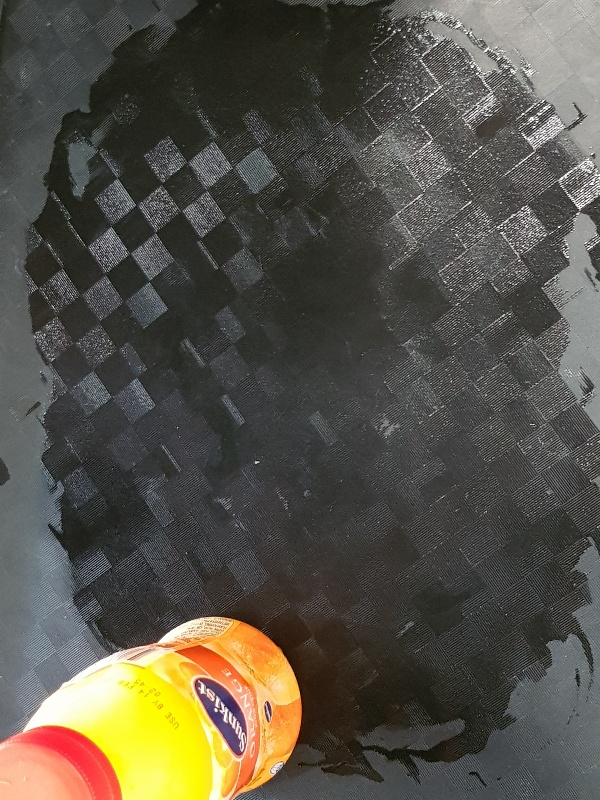Sunkist Orange Juice Drink: (1, 613, 302, 800)
